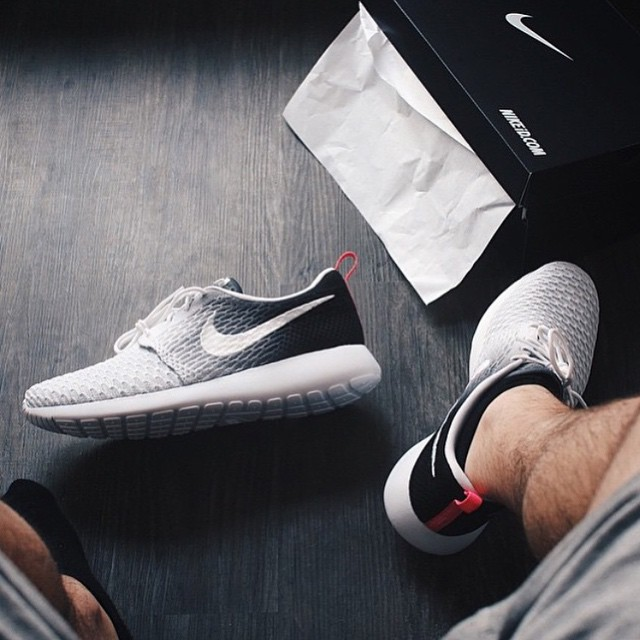sneaker: (363, 241, 622, 575)
